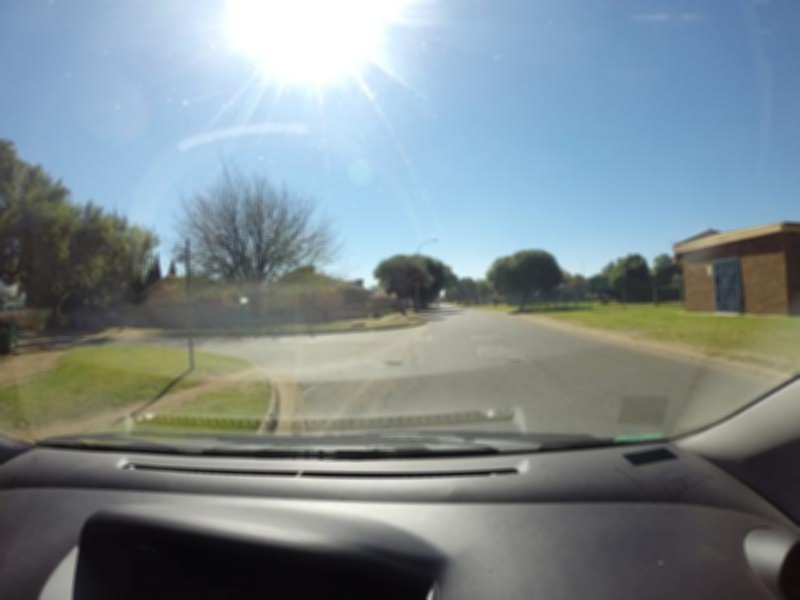pothole: (379, 357, 407, 367), (506, 355, 526, 362)
